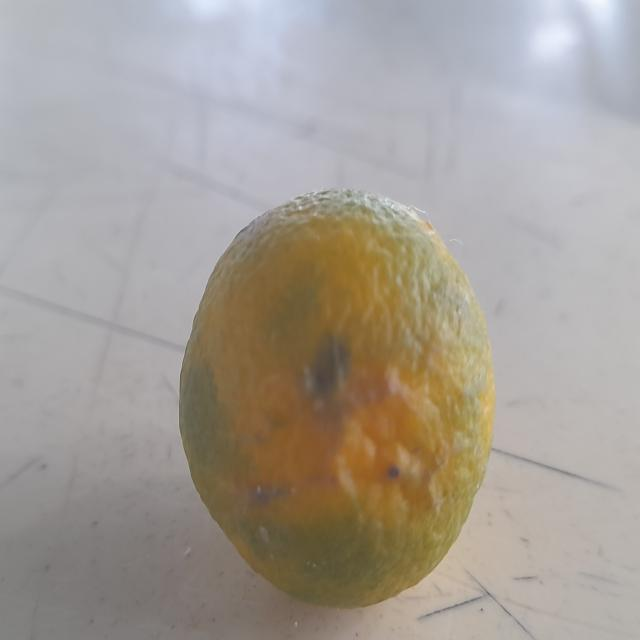greening: (176, 173, 494, 621)
